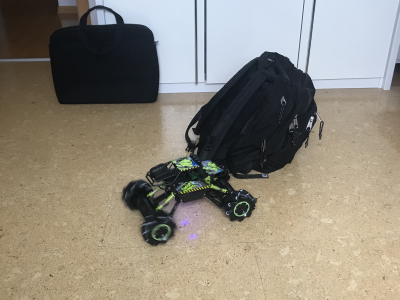remote control car: (119, 152, 259, 245)
